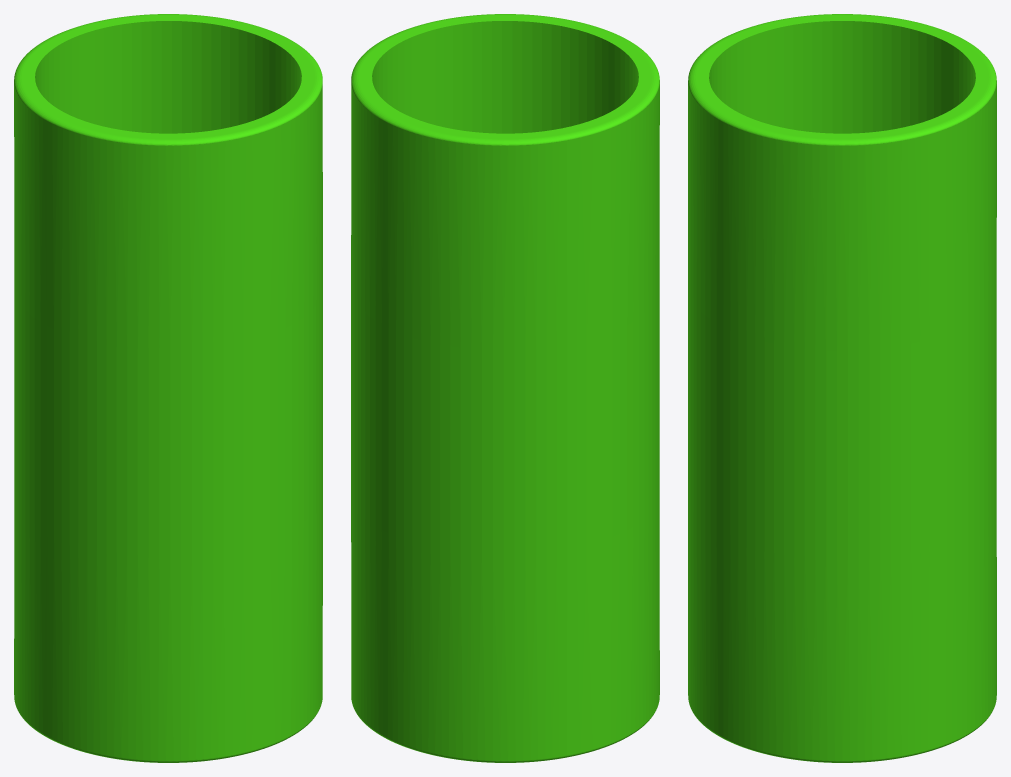
The model's file is habillage_produit_05.glb.
The picture shows the model from 3 angles, left to right: view 1: azimuth 30°, elevation 25°; view 2: azimuth 150°, elevation 25°; view 3: azimuth 270°, elevation 25°; orthographic projection.
Parts seen in each view (by area): view 1: bouteille prototype V3 habillage; view 2: bouteille prototype V3 habillage; view 3: bouteille prototype V3 habillage.
Boxes of the visible parts, x1,y1,x2,y2 form: bouteille prototype V3 habillage: (14, 14, 322, 762); bouteille prototype V3 habillage: (351, 14, 659, 762); bouteille prototype V3 habillage: (688, 14, 996, 762).
Size of the model in its own units: 80.51 by 179 by 80.51.
